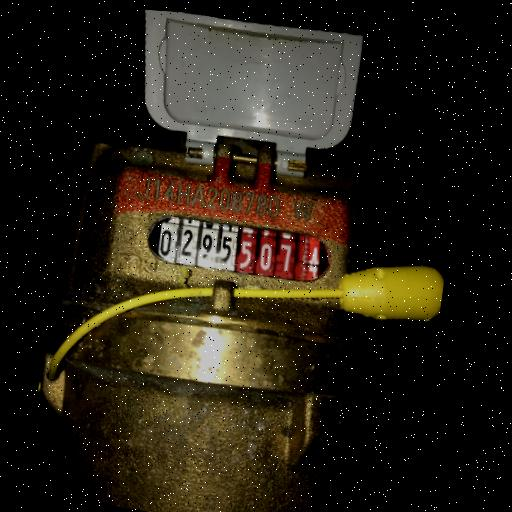0: (252, 233, 280, 278), (156, 221, 181, 264)
2: (174, 223, 202, 267)
4: (292, 230, 325, 286)
5: (232, 230, 260, 276), (213, 228, 241, 273)
7: (271, 235, 300, 281)
9: (195, 226, 222, 271)
border_water_meter_number: (142, 204, 336, 296)
